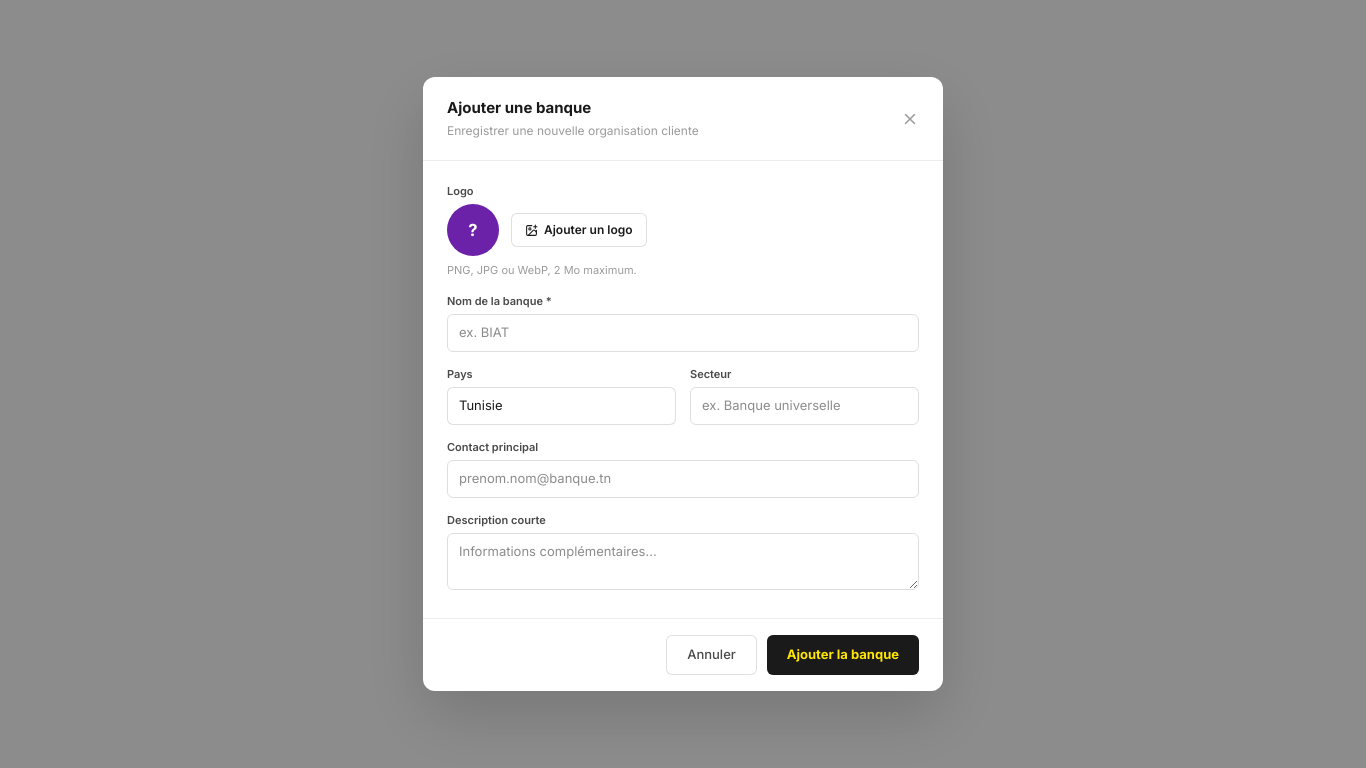
BankModal -- validation à la soumission › efface l'erreur du champ Nom dès que l'utilisateur retape dedans
The image size is (1366, 768).
Click the button "Ajouter la banque". click: (843,655)
box: [767,635,919,675]
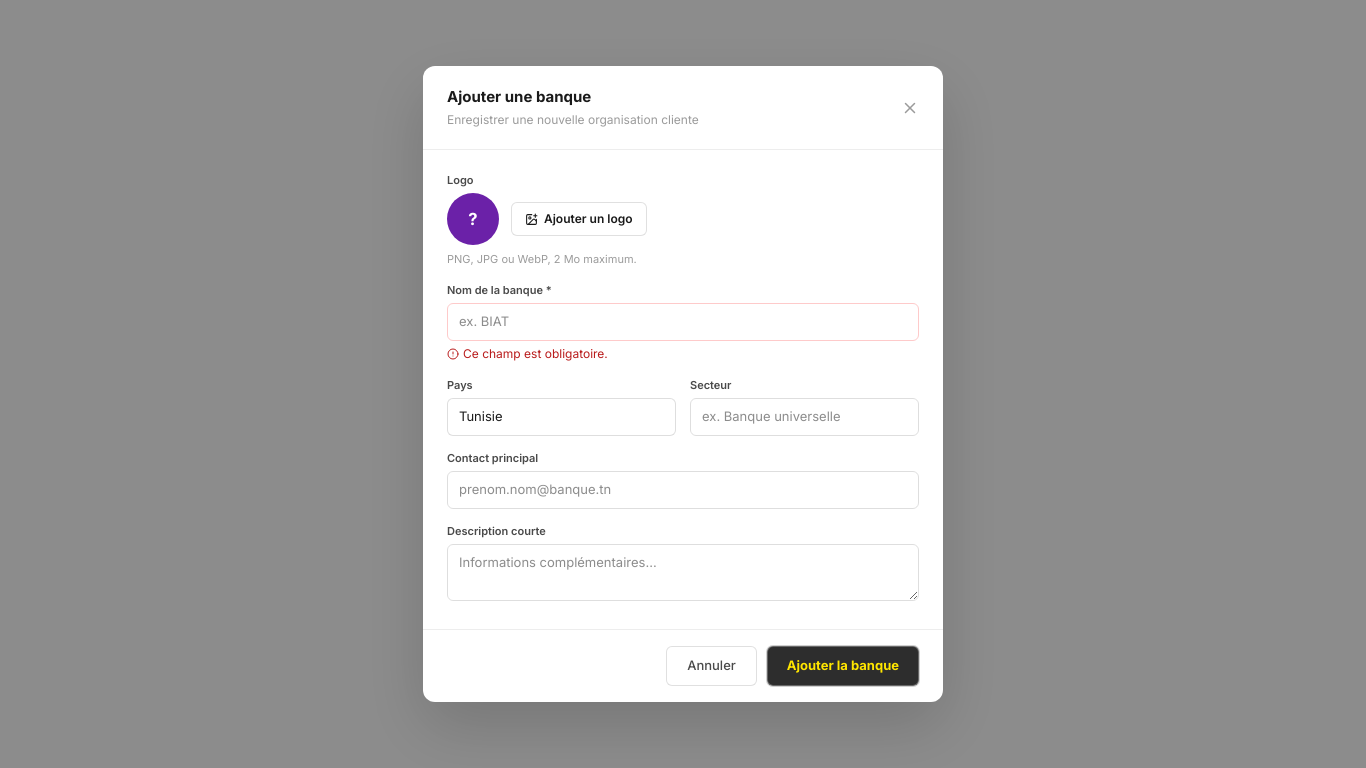
Now the text "Ce champ est obligatoire." is shown, box [447,346,608,361]
Type "B" into the field with placeholder "ex. BIAT". click: (683,322)
box: [447,303,919,341]
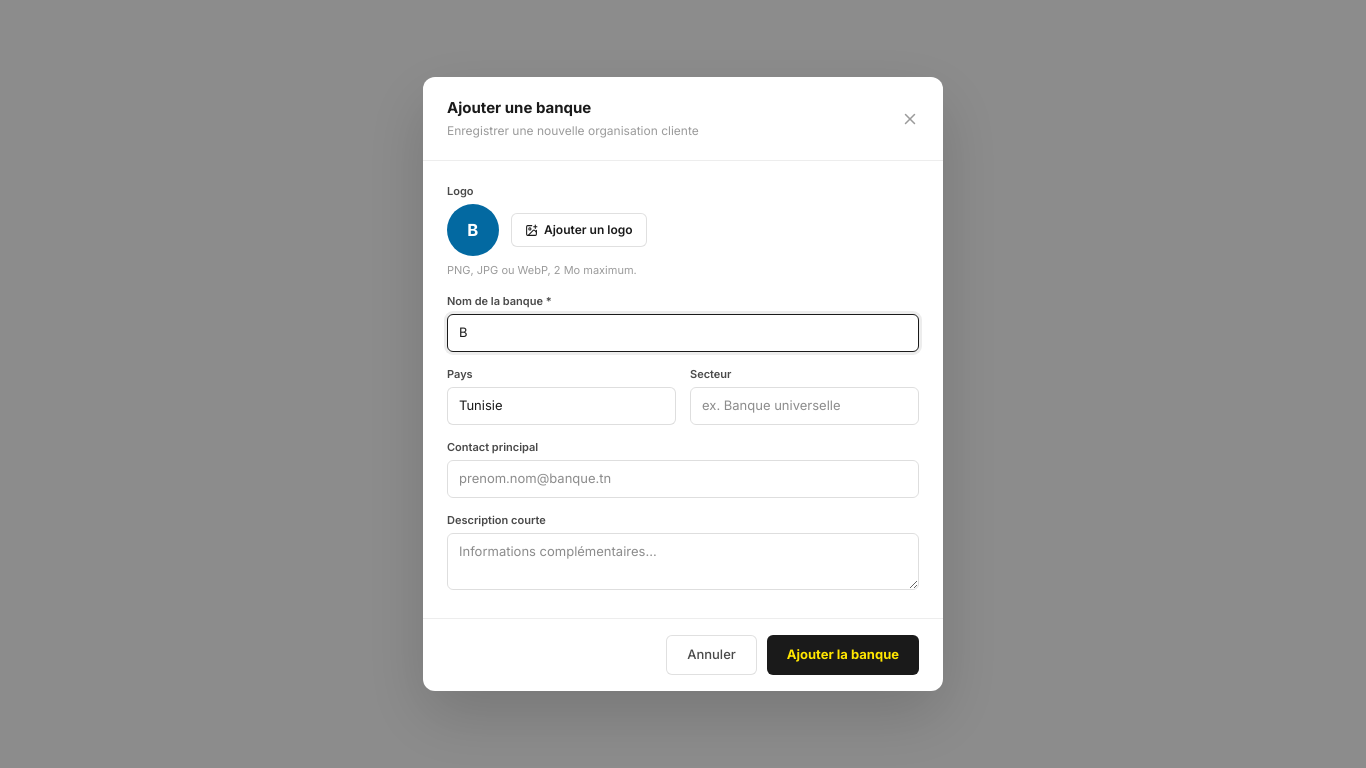
Now the text "Ce champ est obligatoire." is gone
